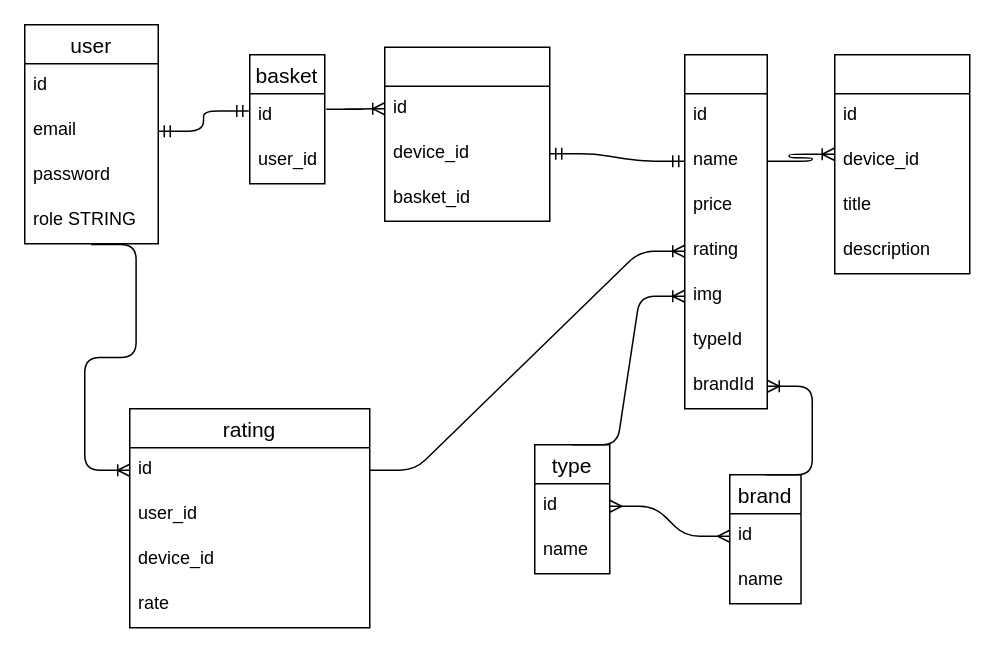
The diagram is 995 pixels wide and 653 high, and some of its shapes have lost their labels. Each missing label, with the box of its shape:
basker_device: (383, 46, 550, 221)
device: (683, 53, 767, 409)
device_info: (833, 53, 970, 274)
